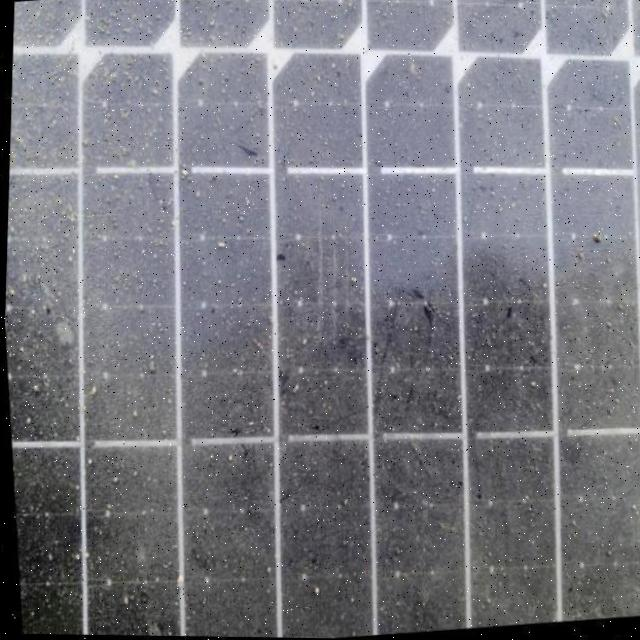Anomaly Solar Panel: (0, 0, 640, 619)
Surface Contaminant: (10, 0, 640, 612)
